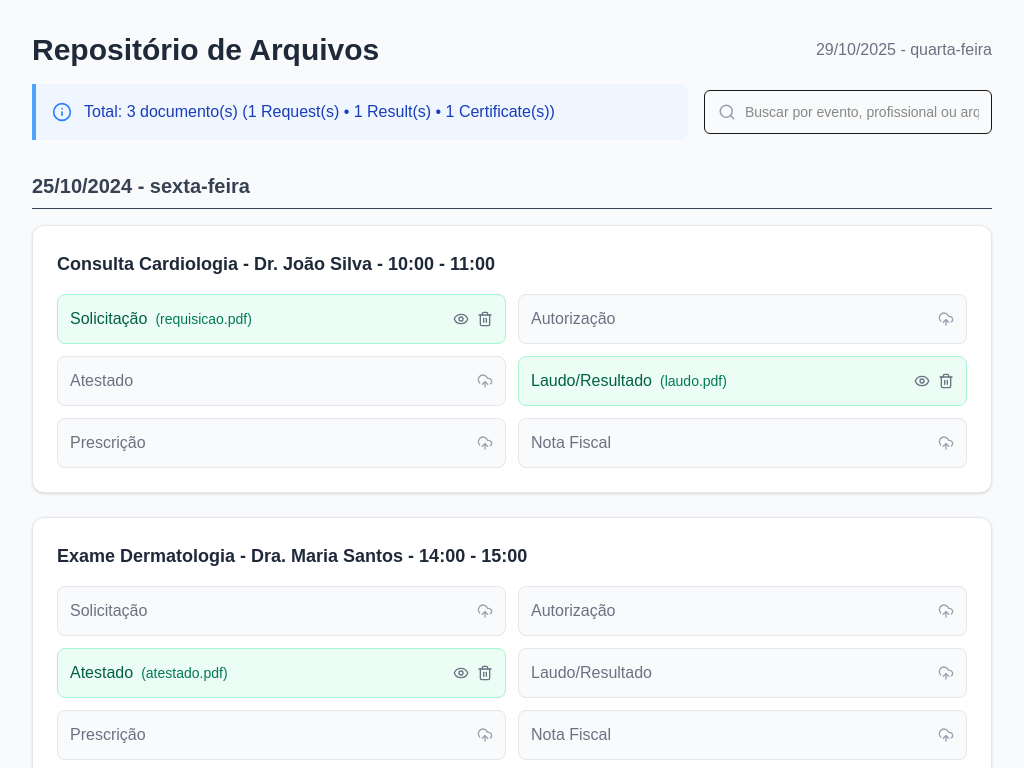
Test: RepositoryTab › filters events by search term
Type "Cardiologia" into the field with placeholder "Buscar por evento, profissional ou arquivo..." at (848, 112), box [704,90,992,134]
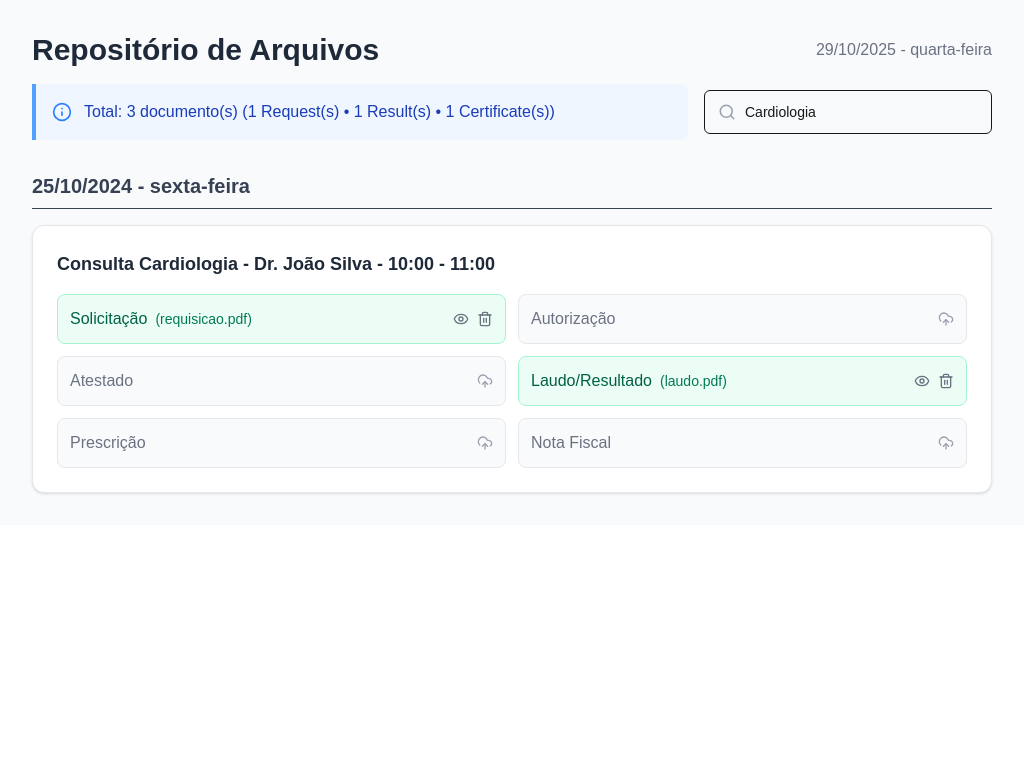
Check: the heading "Exame Dermatologia" is gone
